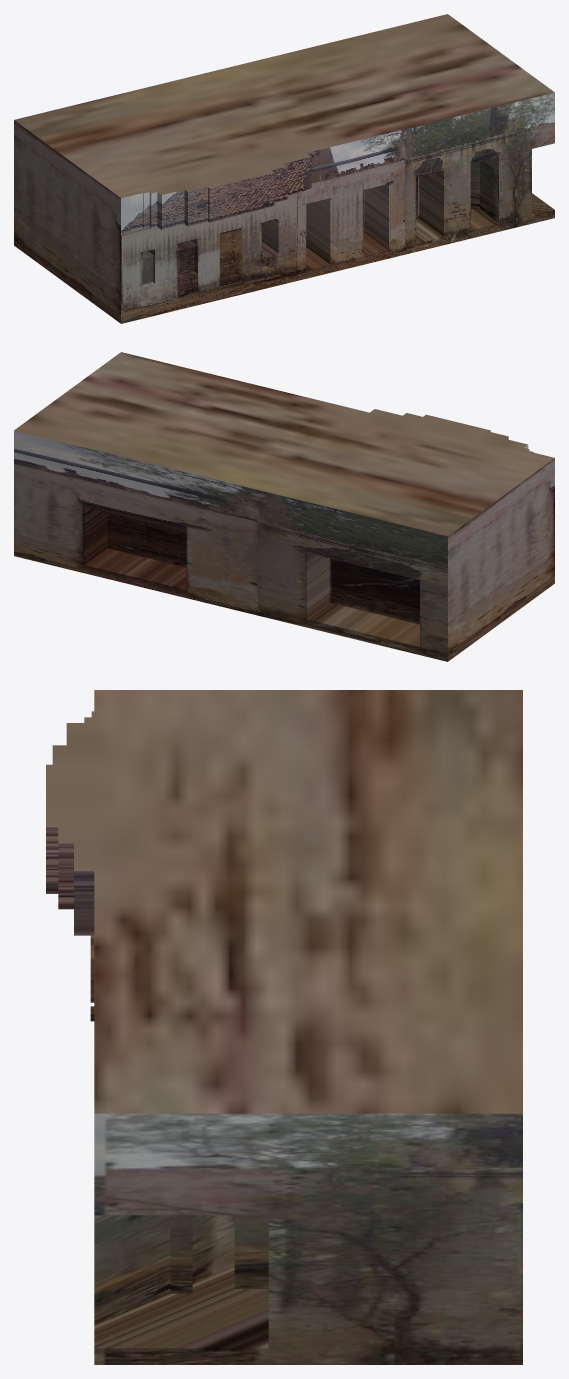
File: restoDaVila.fbx
3 renders of one model, top to bottom at view 1: azimuth 30°, elevation 25°; view 2: azimuth 150°, elevation 25°; view 3: azimuth 270°, elevation 25°, orthographic. The views are drawn at different scales.
Visible parts, largest first — view 1: Cubo; view 2: Cubo; view 3: Cubo.
Boxes of the visible parts, x1=… form: Cubo: x1=14, y1=14, x2=554, y2=323; Cubo: x1=14, y1=352, x2=554, y2=661; Cubo: x1=46, y1=690, x2=522, y2=1364.
Bounding box in the file's own units: 1254 × 347 × 597.
